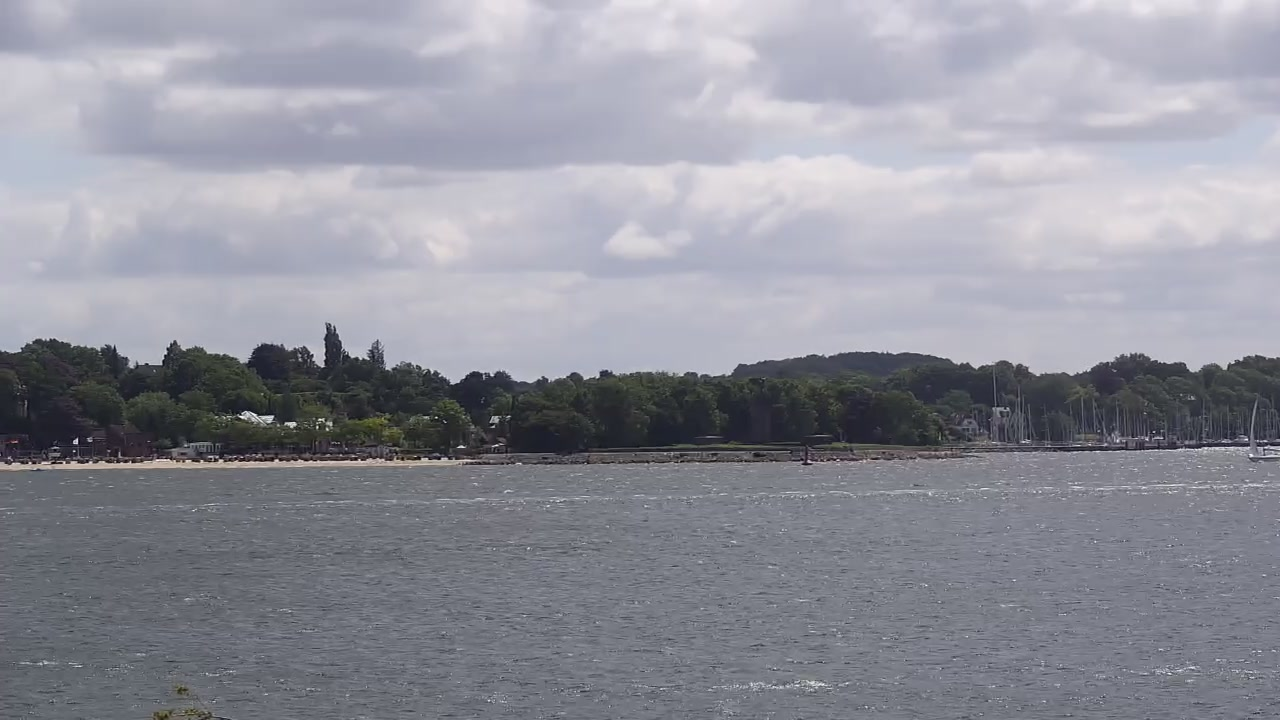sea: (1245, 399, 1279, 461)
